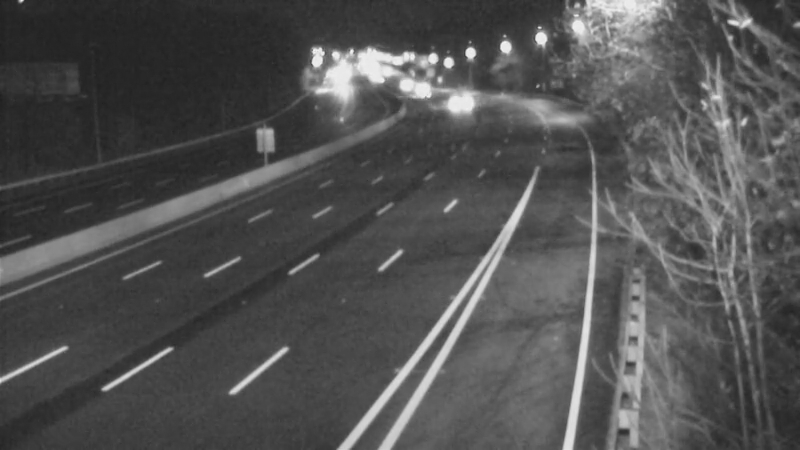vehicle: (381, 59, 431, 109), (391, 65, 441, 115), (403, 73, 453, 123), (435, 80, 485, 130)
